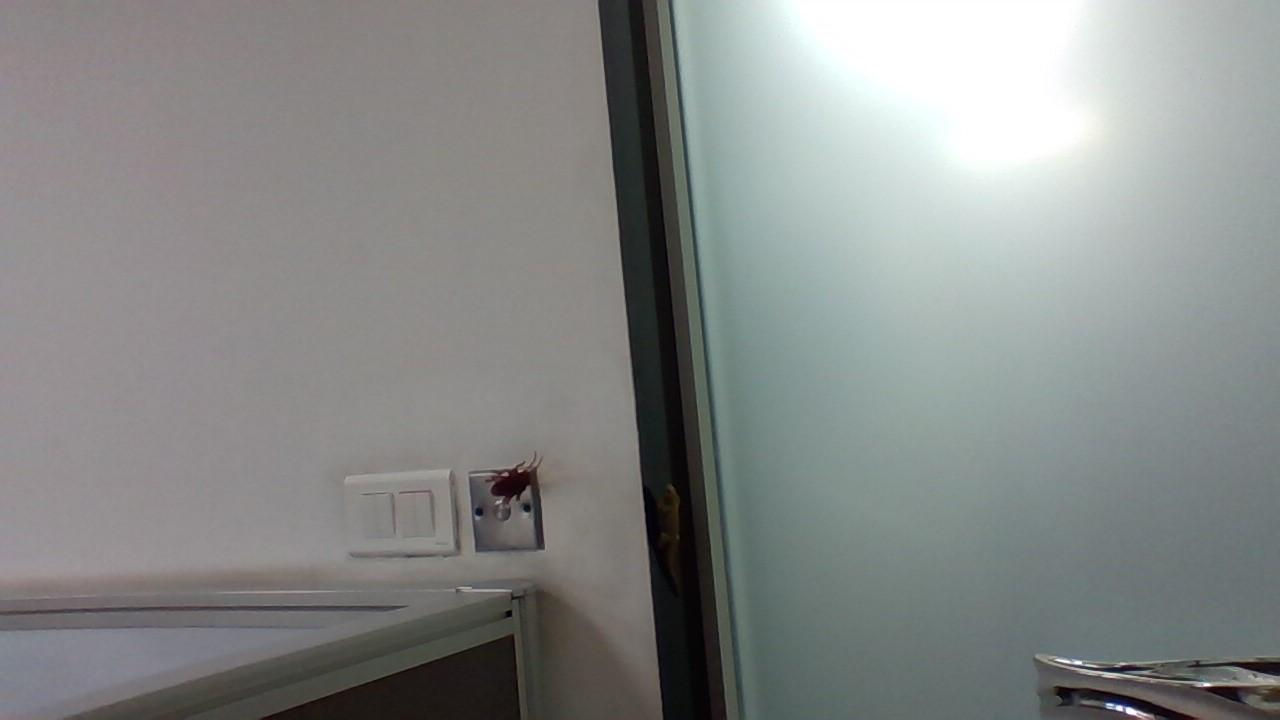cockroach: (466, 455, 564, 508)
lizard: (652, 470, 699, 583)
